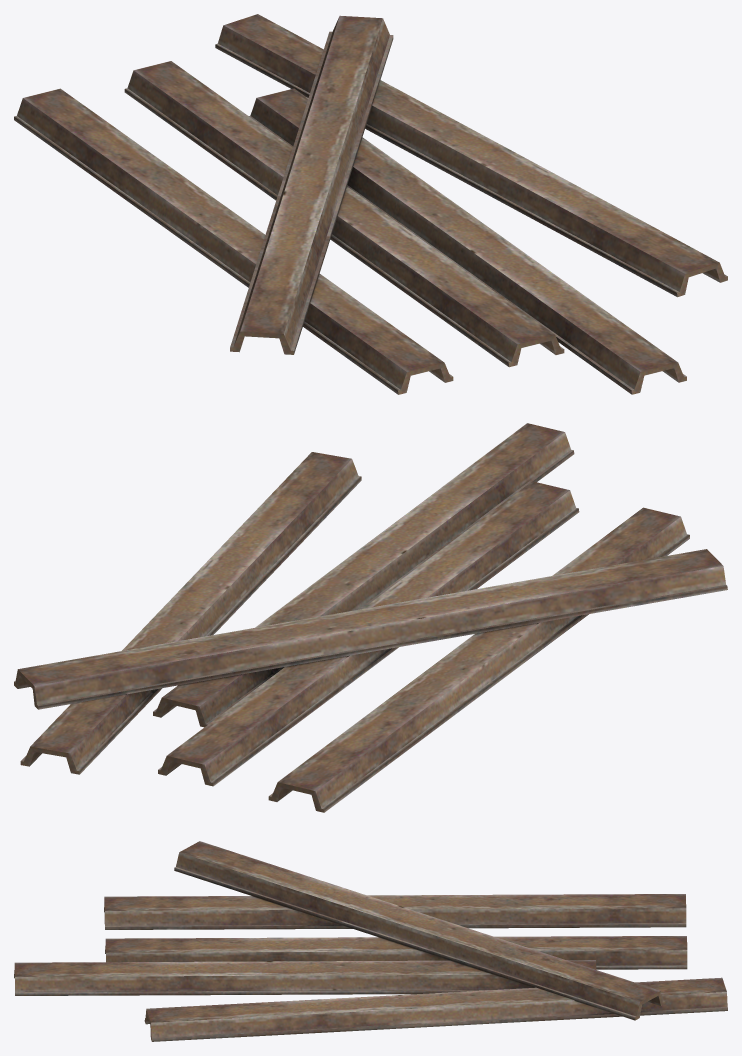
The model's file is construction.004_construction_assets_0.002_lev3.glb.
The picture shows the model from 3 angles, top to bottom: view 1: azimuth 30°, elevation 25°; view 2: azimuth 150°, elevation 25°; view 3: azimuth 270°, elevation 25°; orthographic projection. The views are drawn at different scales.
Visible parts, largest first — view 1: construction.004_construction_assets_0.002_lev3; view 2: construction.004_construction_assets_0.002_lev3; view 3: construction.004_construction_assets_0.002_lev3.
Part boxes in pixels (box(x1,y1,x2,y2)): construction.004_construction_assets_0.002_lev3: box(14, 14, 727, 394); construction.004_construction_assets_0.002_lev3: box(14, 423, 727, 812); construction.004_construction_assets_0.002_lev3: box(14, 841, 727, 1041).
Bounding box in the file's own units: 11.28 × 0.961 × 19.49.
1 material, 1 textured.
